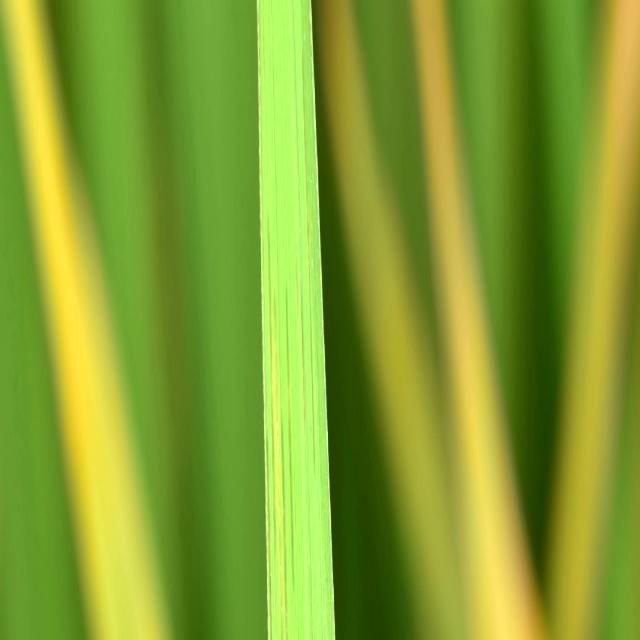BLS: (303, 53, 315, 465), (267, 219, 276, 631), (273, 301, 283, 640), (285, 283, 294, 594), (281, 413, 289, 640), (266, 429, 272, 640), (301, 293, 305, 424), (295, 241, 299, 315)
